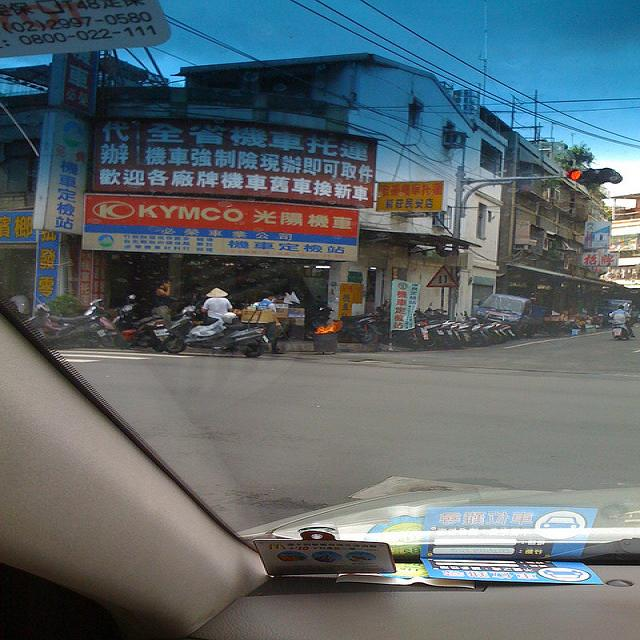motor: (153, 306, 266, 358), (26, 297, 131, 352), (393, 317, 443, 350), (460, 312, 498, 345), (135, 315, 167, 352), (438, 322, 467, 350), (465, 317, 488, 348), (377, 301, 391, 335), (491, 324, 506, 344), (457, 322, 470, 344), (499, 325, 514, 340), (611, 326, 627, 340)
